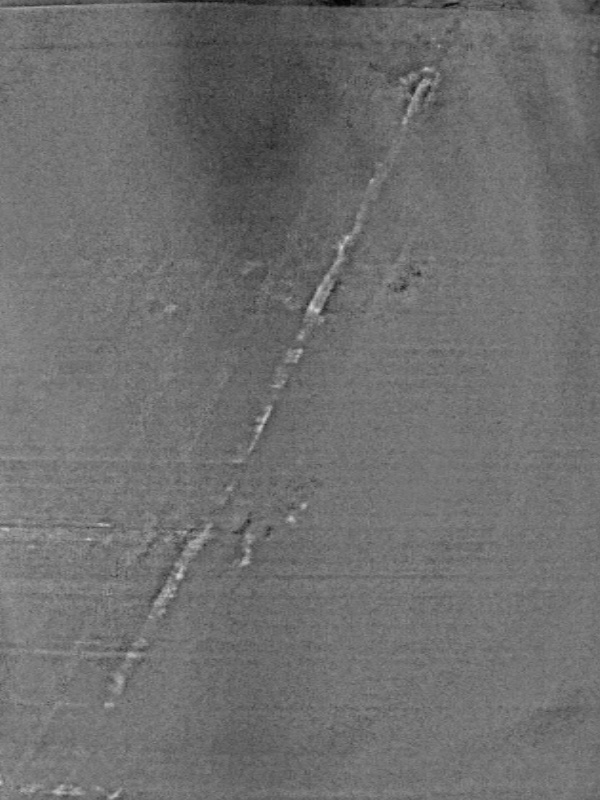splice_vulcanized: (2, 12, 471, 800)
